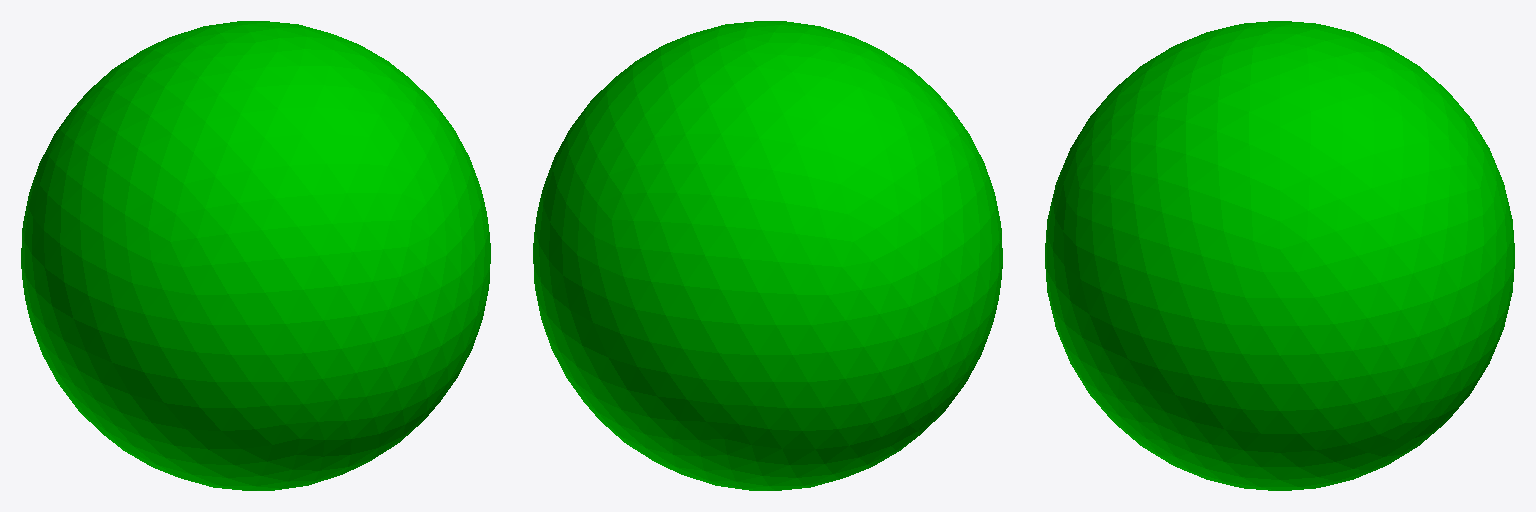
Rendered from bol.obj.
3 views of the same model, side by side, from view 1: azimuth 30°, elevation 25°; view 2: azimuth 150°, elevation 25°; view 3: azimuth 270°, elevation 25° (orthographic).
Parts seen in each view (by area): view 1: Icosphere; view 2: Icosphere; view 3: Icosphere.
Boxes of the visible parts, x1=… form: Icosphere: x1=21, y1=21, x2=490, y2=490; Icosphere: x1=533, y1=21, x2=1002, y2=490; Icosphere: x1=1045, y1=21, x2=1514, y2=490.
Size of the model in its own units: 2 by 2 by 2.